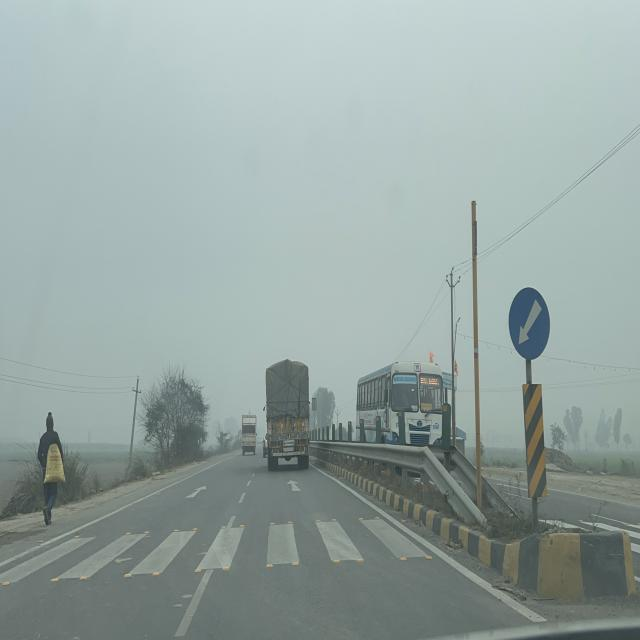KEEP_LEFT: (508, 285, 552, 361)
